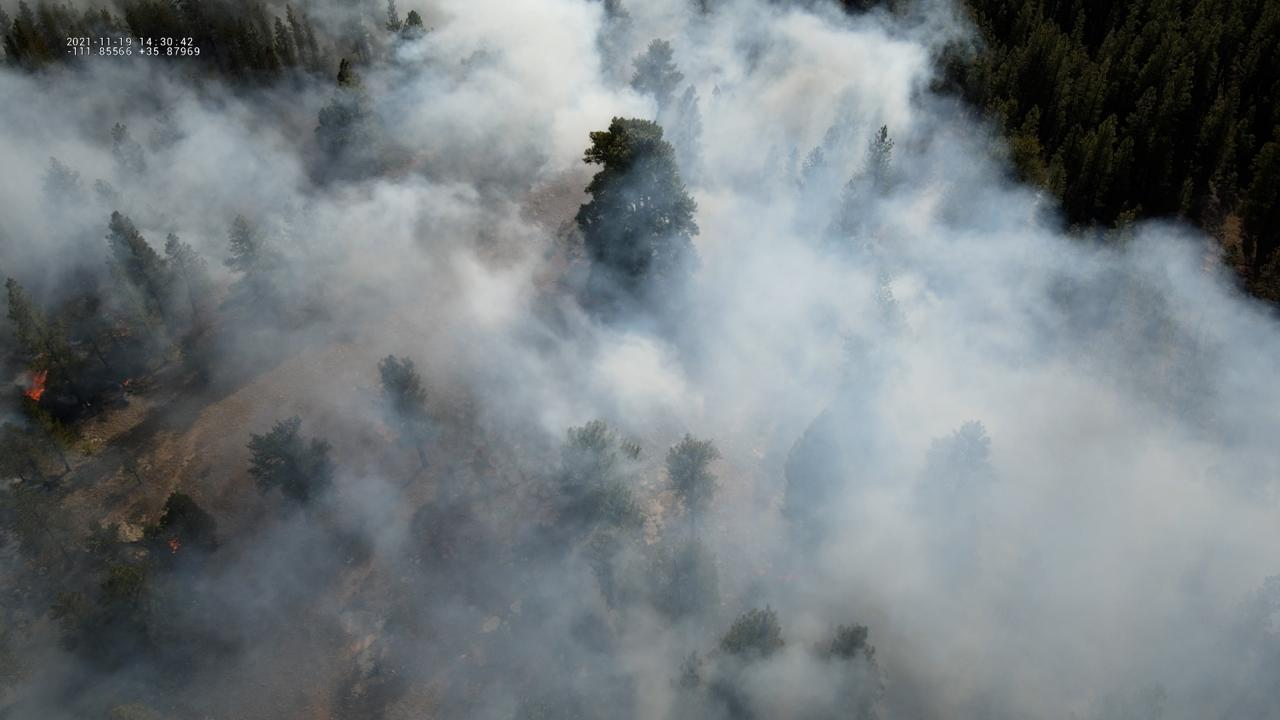fire: (17, 368, 49, 407), (165, 535, 183, 556), (120, 379, 131, 390)
smoke: (0, 0, 1280, 720)
